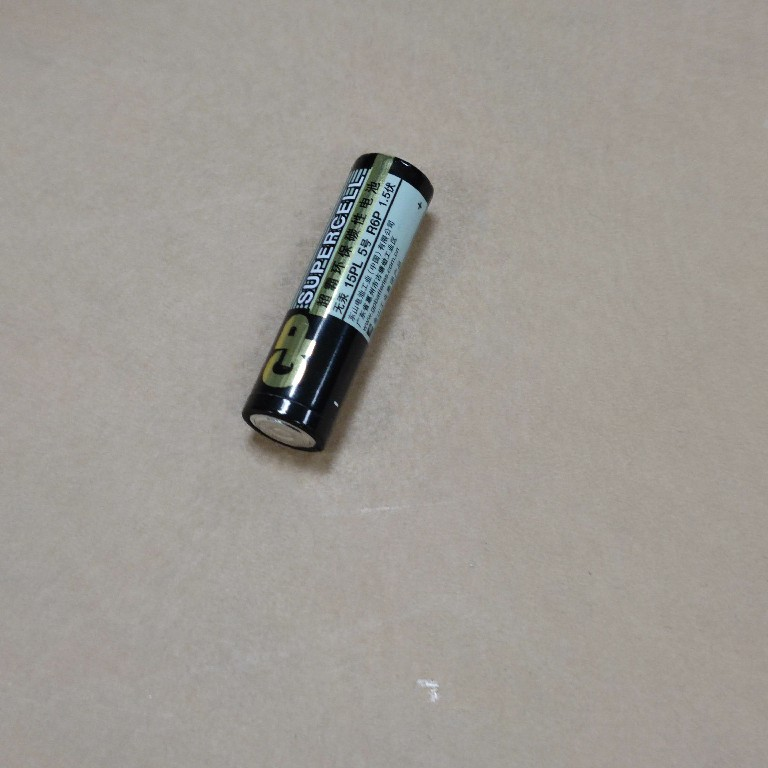charge: (238, 148, 438, 457)
